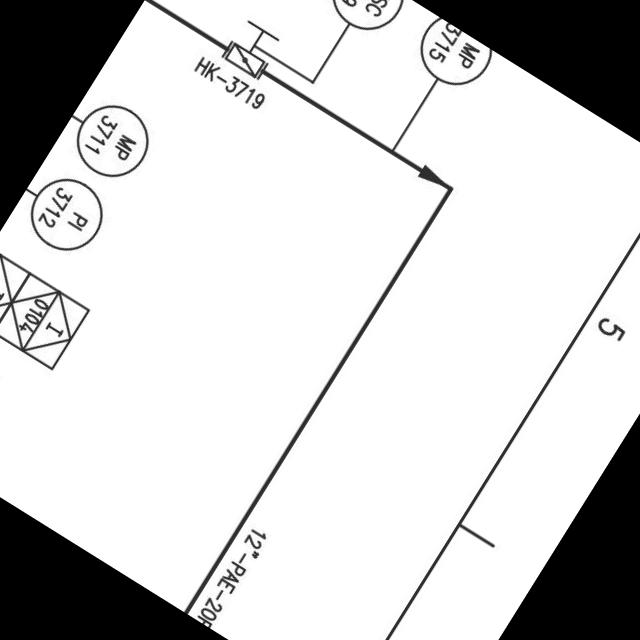BV: (215, 10, 290, 86)
